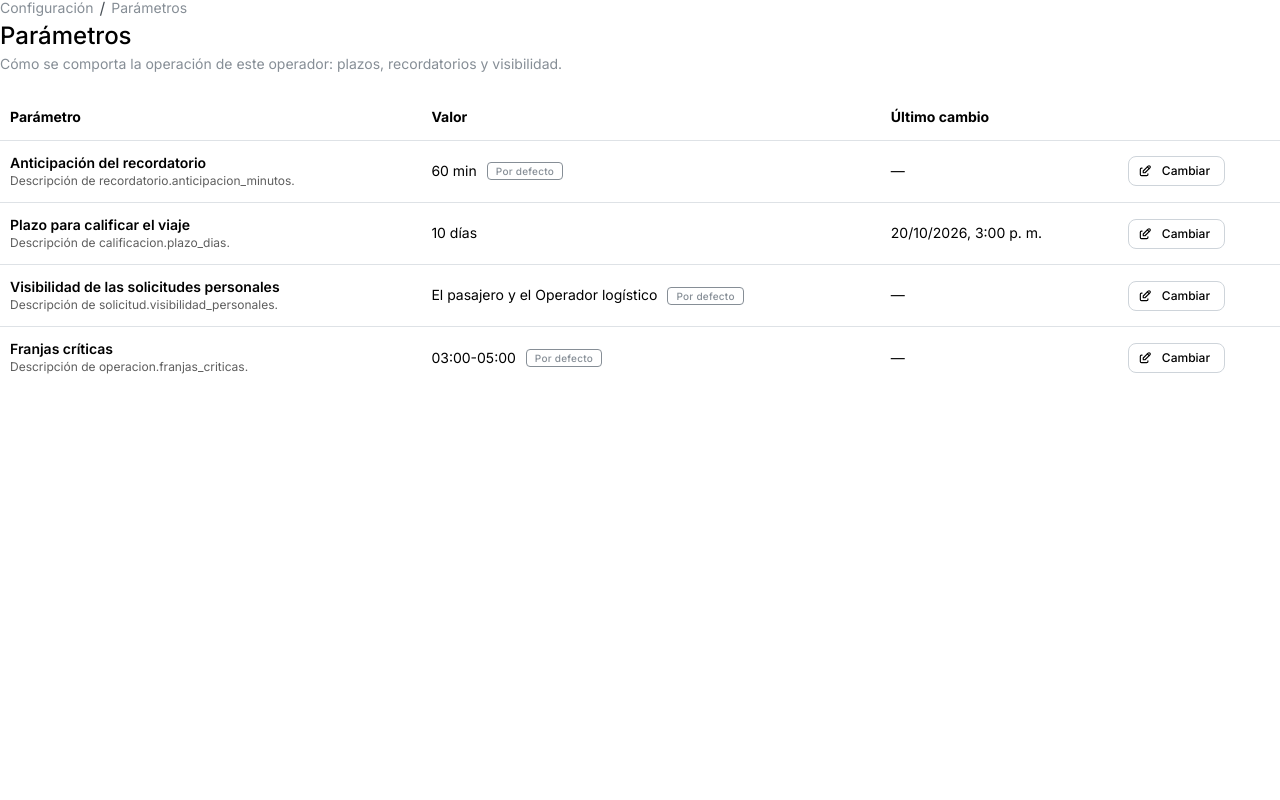
Parámetros (ADR-0016) › el Administrador cambia un número y otro lo devuelve a su valor por defecto
Click the button with aria-label "Cambiar Anticipación del recordatorio".
click(1176, 171)  # box 1128,156 -> 1225,186
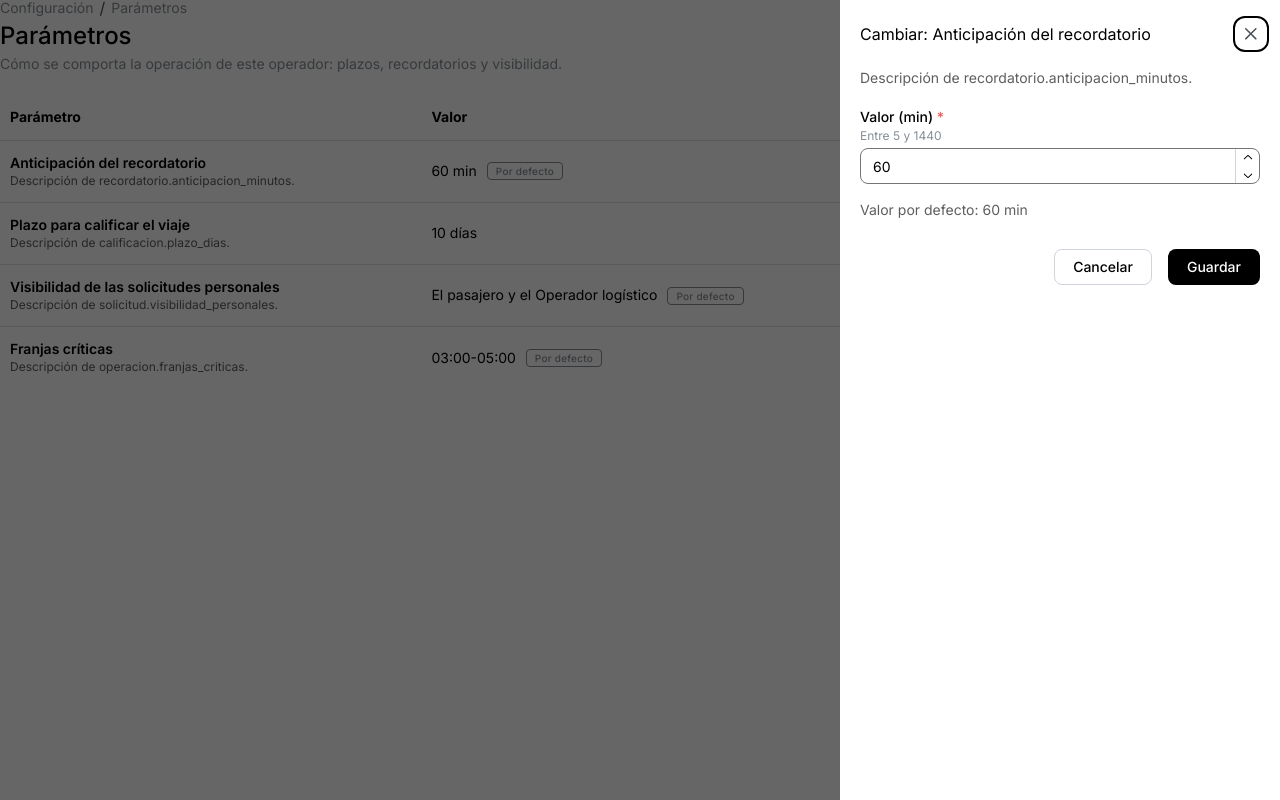
Check: the text "Entre 5 y 1440" is shown, box 860,128 -> 942,143
Replace the text in the field labelled "Valor (min) *" with "45" at (1060, 166), box 860,148 -> 1260,184
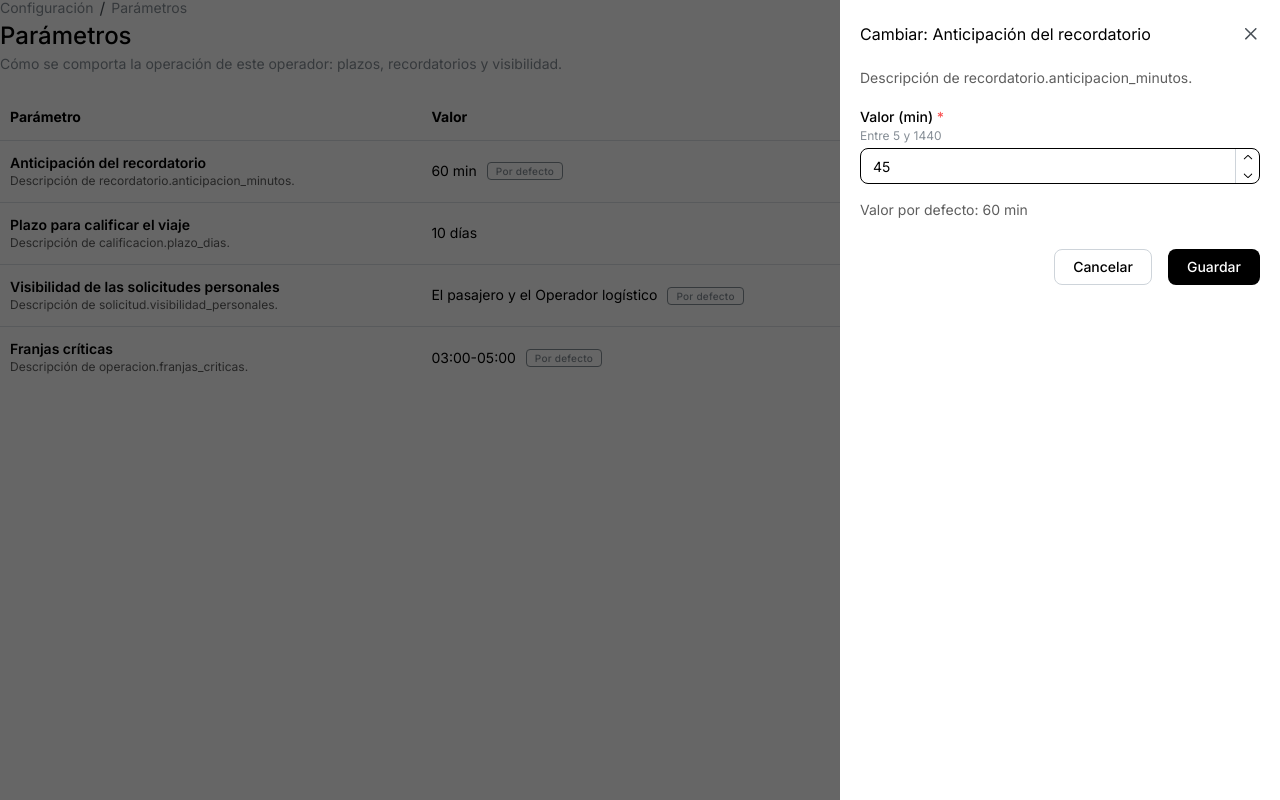
Click the button "Guardar".
click(1214, 267)  # box 1168,249 -> 1260,285
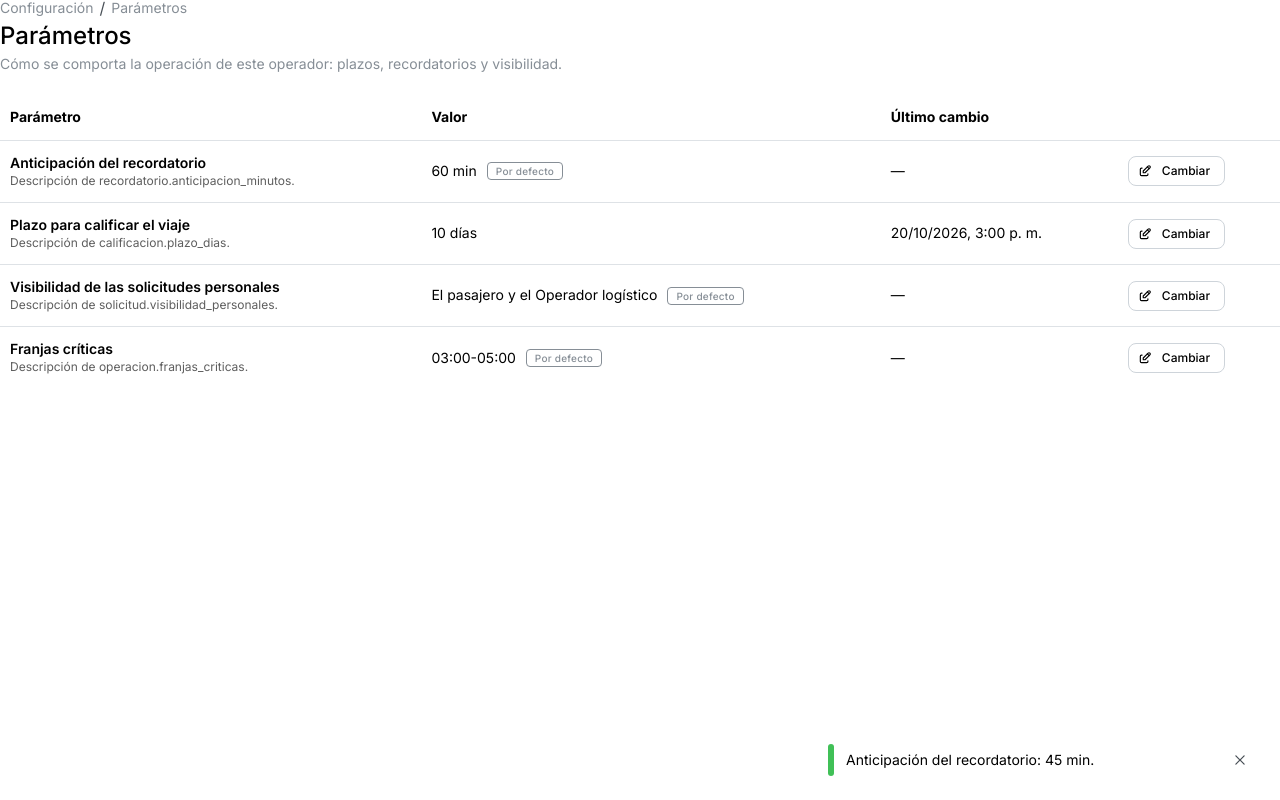
Check: the text "Anticipación del recordatorio: 45 min." is shown, box 846,751 -> 1094,768
Click the button with aria-label "Cambiar Plazo para calificar el viaje".
click(1176, 234)  # box 1128,218 -> 1225,248
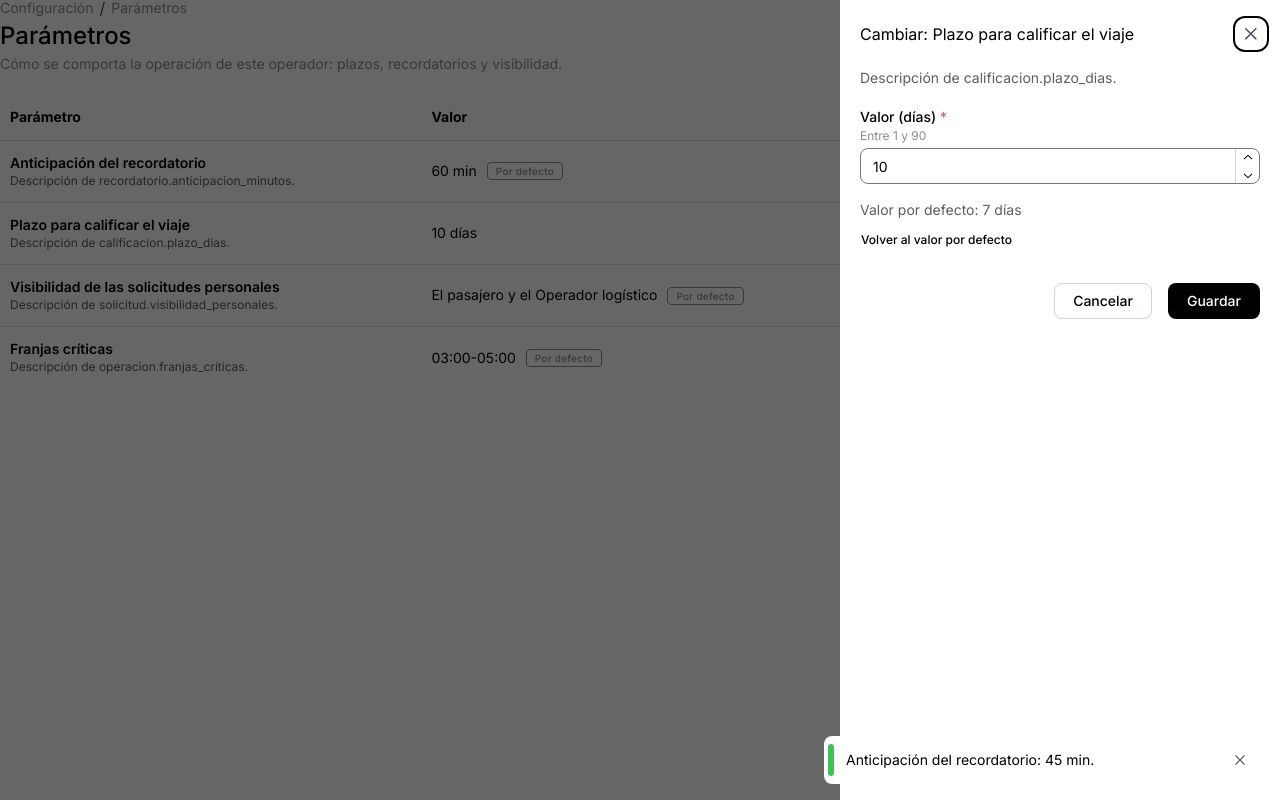
Click the button "Volver al valor por defecto".
click(936, 240)  # box 860,225 -> 1013,255
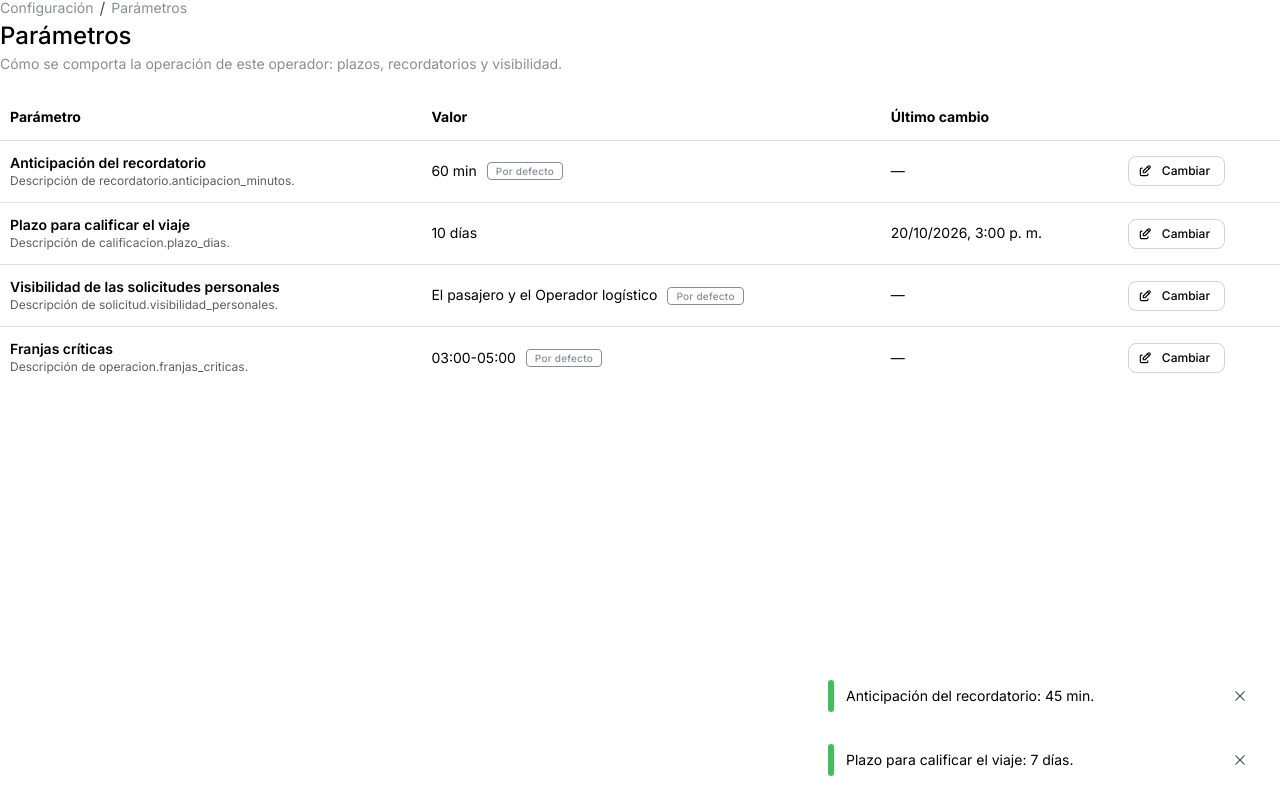
Check: the text "Plazo para calificar el viaje: 7 días." is shown, box 846,751 -> 1074,768
